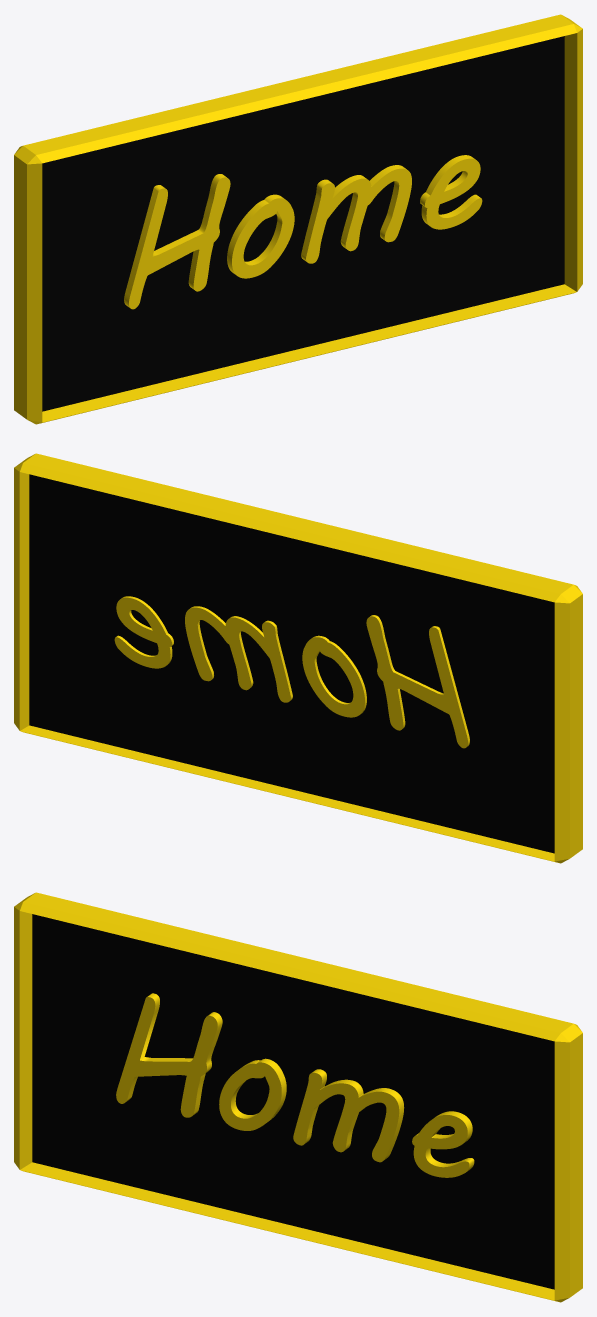
The model's file is home.gltf.
3 views of the same model, one above another, from view 1: azimuth 30°, elevation 25°; view 2: azimuth 150°, elevation 25°; view 3: azimuth 330°, elevation 25° (orthographic).
Visible parts, largest first — view 1: Cube, Resume; view 2: Cube, Resume; view 3: Cube, Resume.
Boxes of the visible parts, x1,y1,x2,y2 form: Cube: (14,14,582,424); Resume: (124,155,482,309); Cube: (14,453,582,863); Resume: (114,596,469,748); Cube: (14,892,582,1302); Resume: (116,993,474,1177).
Size of the model in its own units: 3.04 by 1.41 by 0.2142.
